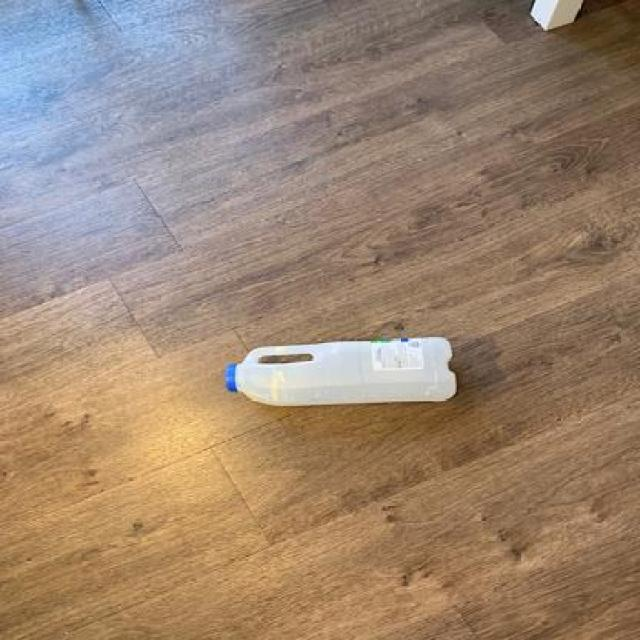trash: (221, 331, 459, 411)
